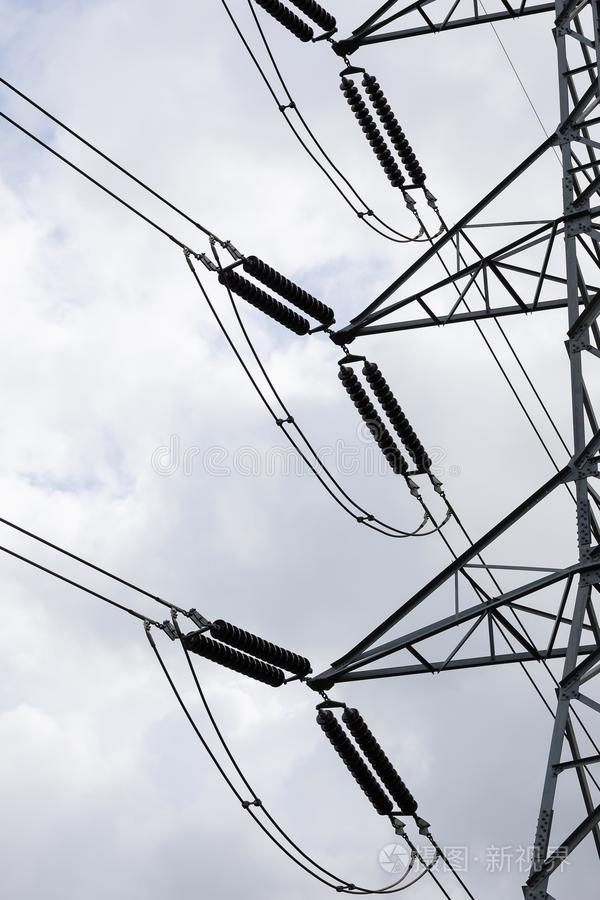insulator: (337, 359, 436, 473), (316, 710, 421, 817), (339, 70, 429, 187), (217, 254, 334, 333), (186, 615, 306, 688), (259, 1, 336, 40)
